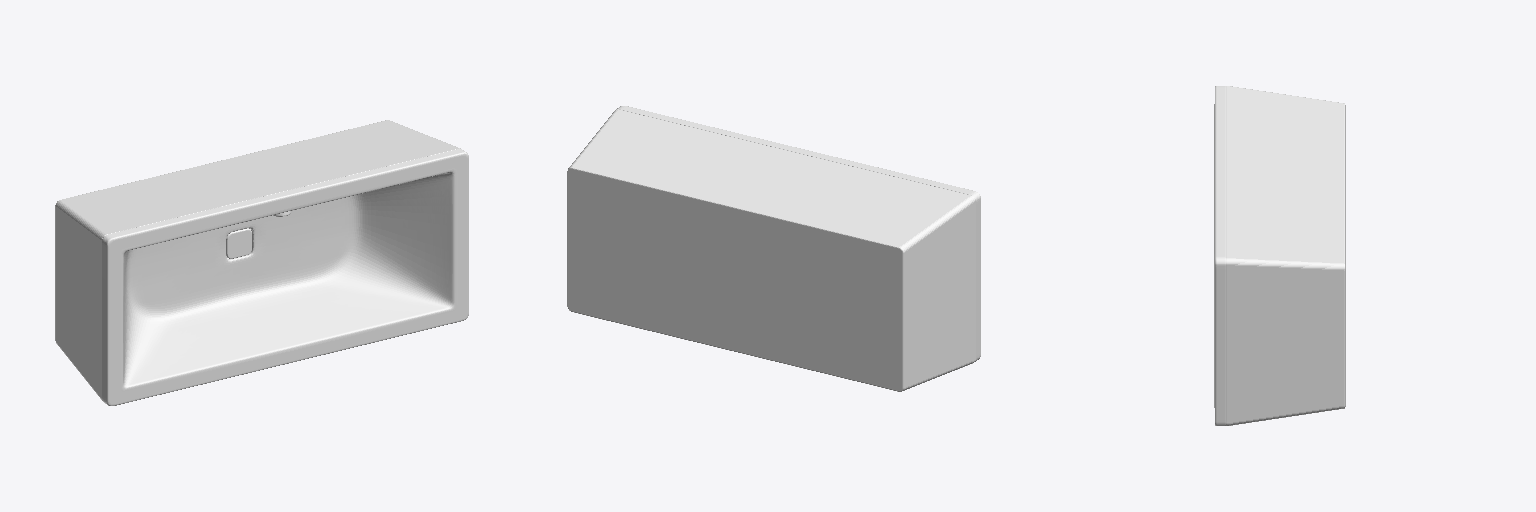
File: Kaldewei_Conoduo_Bathtub.obj
3 renders of one model, left to right at view 1: azimuth 30°, elevation 25°; view 2: azimuth 150°, elevation 25°; view 3: azimuth 270°, elevation 25°, orthographic.
Parts seen in each view (by area): view 1: Kaldewei_Conoduo_Bathtub; view 2: Kaldewei_Conoduo_Bathtub; view 3: Kaldewei_Conoduo_Bathtub.
Part boxes in pixels (x1,y1,x2,y2): Kaldewei_Conoduo_Bathtub: (55,120,468,405); Kaldewei_Conoduo_Bathtub: (567,106,980,391); Kaldewei_Conoduo_Bathtub: (1214,86,1345,425).
Bounding box in the file's own units: 180 × 79.95 × 56.36.